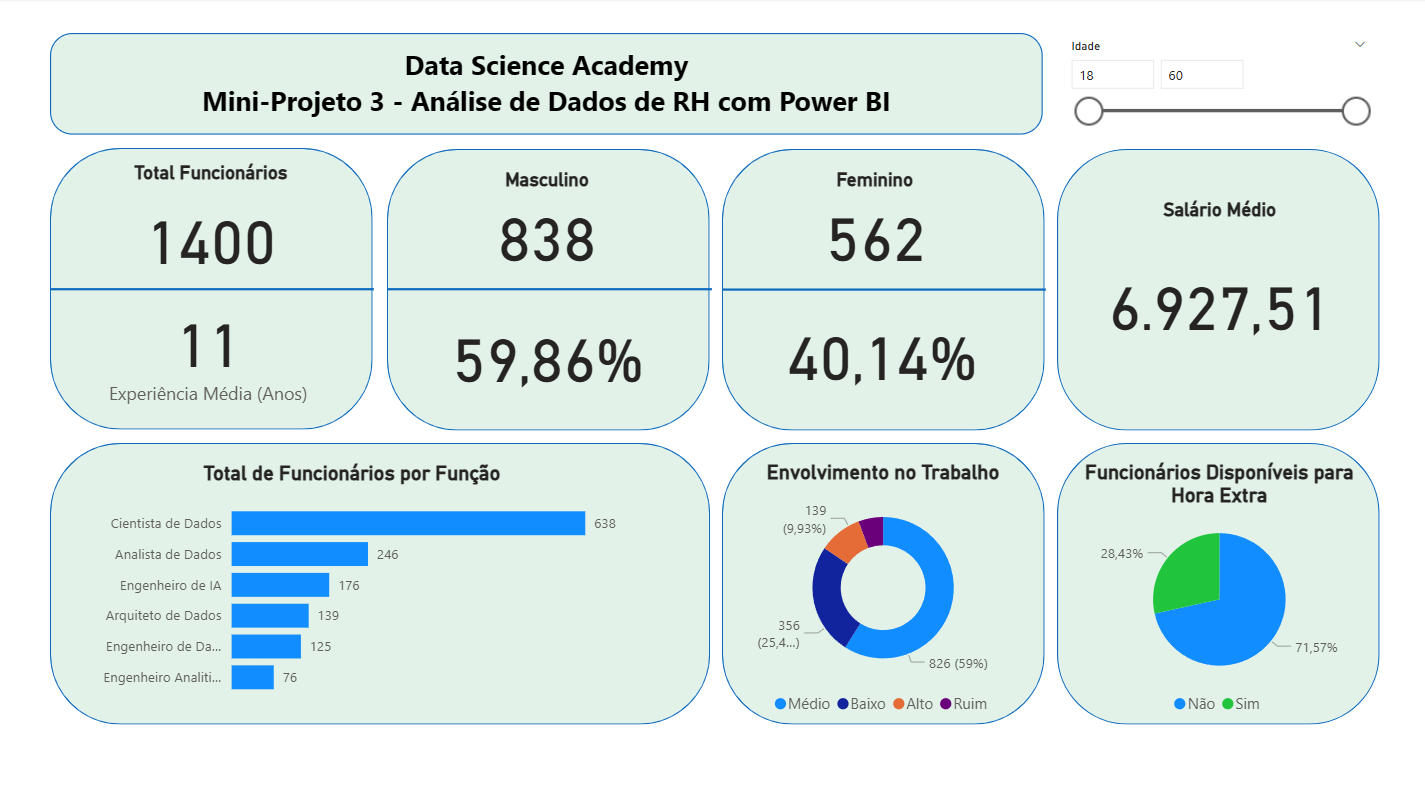

This screenshot's page, from the dashboard's own definition file:
{"tool":"powerbi","page":{"name":"Analise Dados RH","canvas":[1280,720],"ordinal":0},"visuals":[{"type":"shape","box":[45.6,398.9,591.1,252.2],"z":2000},{"type":"shape","box":[45.6,134.4,288.9,252.2],"z":3000},{"type":"shape","box":[647.8,135.6,288.9,252.2],"z":4000},{"type":"textbox","box":[45.6,31.1,888.9,91.1],"z":5000},{"type":"slicer","fields":{"Values":["DatasetRH.Idade"]},"box":[947.8,31.1,288.9,91.1],"z":6000},{"type":"shape","box":[347.8,135.6,288.9,252.2],"z":7000},{"type":"shape","box":[947.8,135.6,288.9,252.2],"z":8000},{"type":"shape","box":[348,122,290,278],"z":9000},{"type":"shape","box":[648,136,289,250],"z":10000},{"type":"clusteredBarChart","fields":{"Category":["DatasetRH.Funcao"],"Y":["Medidas.TotalFunc"]},"box":[74.4,414.4,483.3,221.1],"z":11000},{"type":"shape","box":[647.8,398.9,288.9,252.2],"z":12000},{"type":"shape","box":[947.8,398.9,288.9,252.2],"z":13000},{"type":"donutChart","title":"Envolvimento no Trabalho","fields":{"Y":["Medidas.TotalFunc"],"Category":["DatasetRH.Envolvimento_Trabalho"]},"box":[671,414,242,237],"z":14000},{"type":"pieChart","title":"Funcionários Disponíveis para Hora Extra","fields":{"Category":["DatasetRH.Disponivel_Hora_Extra"],"Y":["Medidas.TotalFunc"]},"box":[948,414,289,237],"z":15000},{"type":"card","title":"Salário Médio","fields":{"Values":["Medidas.mediasalario"]},"box":[971,179,245,165],"z":16000},{"type":"card","title":"Total Funcionários","fields":{"Values":["Medidas.TotalFunc"]},"box":[54,146,272,114],"z":17000},{"type":"card","title":"Feminino","fields":{"Values":["Medidas.TotalFeminino"]},"box":[648,152,272,96],"z":18000},{"type":"card","title":"Masculino","fields":{"Values":["Medidas.TotalMasculino"]},"box":[362,152,258,96],"z":19000},{"type":"card","fields":{"Values":["Medidas.%masculino"]},"box":[362,248,258,140],"z":20000},{"type":"card","fields":{"Values":["Medidas.%feminino"]},"box":[662,246,258,140],"z":21000},{"type":"card","fields":{"Values":["Medidas.totalexp"]},"box":[74,254,226,122],"z":22000},{"type":"shape","box":[46,122,290,278],"z":22500}]}

Visuals, with their boxes in screenshot pixels (x1, y1, x2, y2), scaled from the page's 1280x720 canvas onto the 1425x795 screenshot:
shape: l=51, t=440, r=709, b=719
shape: l=51, t=148, r=372, b=427
shape: l=721, t=150, r=1043, b=428
textbox: l=51, t=34, r=1040, b=135
slicer - DatasetRH.Idade: l=1055, t=34, r=1377, b=135
shape: l=387, t=150, r=709, b=428
shape: l=1055, t=150, r=1377, b=428
shape: l=387, t=135, r=710, b=442
shape: l=721, t=150, r=1043, b=426
clusteredBarChart - DatasetRH.Funcao x Medidas.TotalFunc: l=83, t=458, r=621, b=702
shape: l=721, t=440, r=1043, b=719
shape: l=1055, t=440, r=1377, b=719
"Envolvimento no Trabalho" donutChart: l=747, t=457, r=1016, b=719
"Funcionários Disponíveis para Hora Extra" pieChart: l=1055, t=457, r=1377, b=719
"Salário Médio" card: l=1081, t=198, r=1354, b=380
"Total Funcionários" card: l=60, t=161, r=363, b=287
"Feminino" card: l=721, t=168, r=1024, b=274
"Masculino" card: l=403, t=168, r=690, b=274
card - Medidas.%masculino: l=403, t=274, r=690, b=428
card - Medidas.%feminino: l=737, t=272, r=1024, b=426
card - Medidas.totalexp: l=82, t=280, r=334, b=415
shape: l=51, t=135, r=374, b=442
